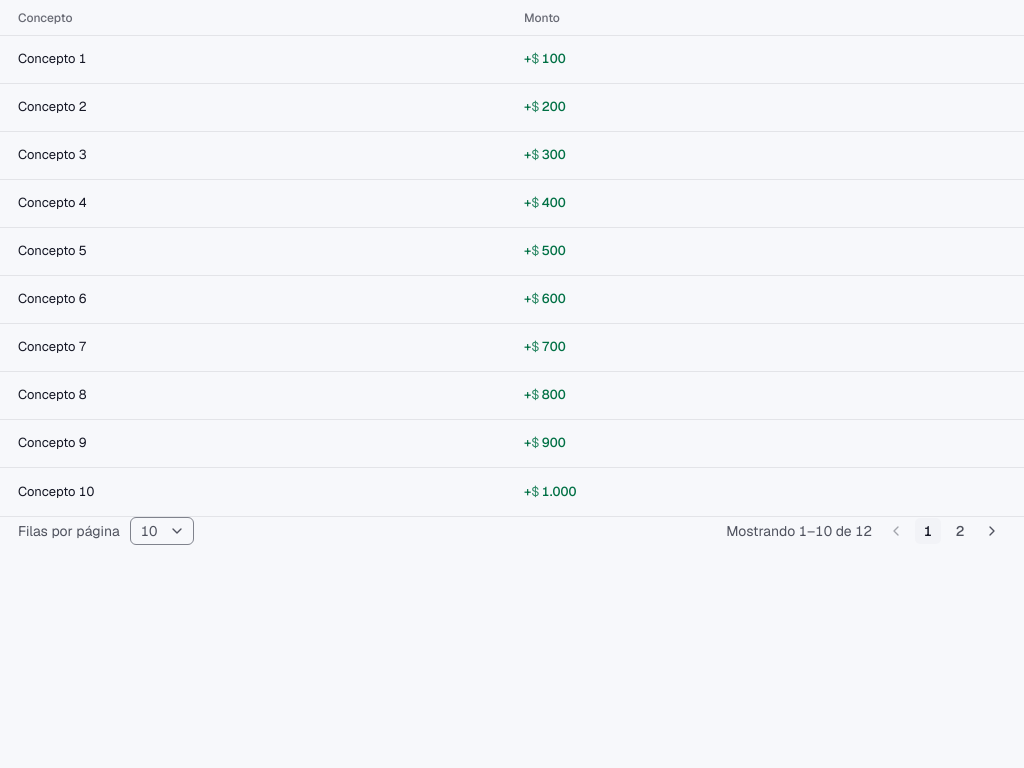
it: <AppDataGrid> › paginación cliente: 10 por página (UI_CONFIG) y página siguiente
Check: the text "Concepto 10" is shown, box [0,468,512,516]
Check: the text "Concepto 11" is not shown
Click the 2nd button named "Página siguiente": (992, 531) [978,517,1006,545]
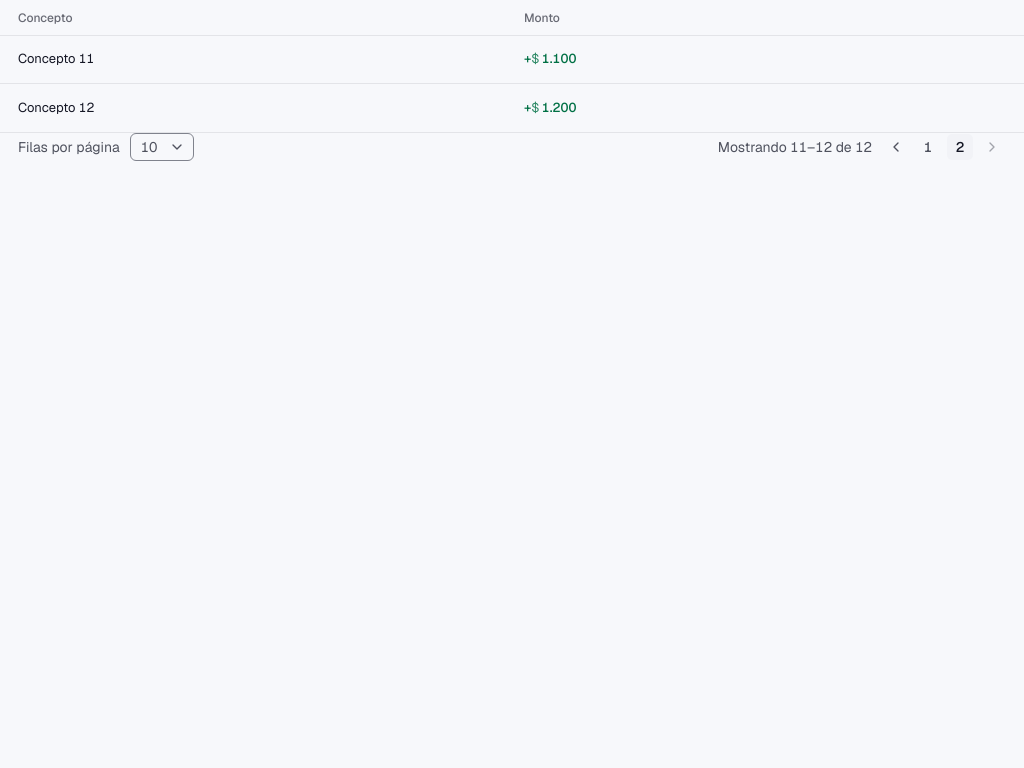
Check: the text "Concepto 11" is shown, box [0,36,512,84]
